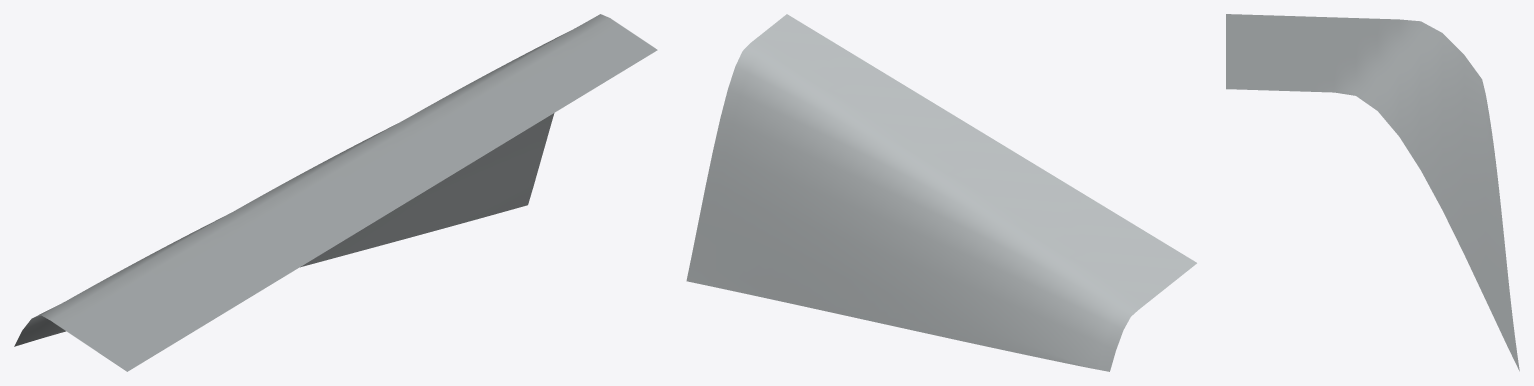
File: alpine-11-11.glb
The picture shows the model from 3 angles, left to right: view 1: azimuth 30°, elevation 25°; view 2: azimuth 150°, elevation 25°; view 3: azimuth 270°, elevation 25°; orthographic projection. The views are drawn at different scales.
Visible parts, largest first — view 1: alpine-11-11; view 2: alpine-11-11; view 3: alpine-11-11.
Boxes of the visible parts, x1,y1,x2,y2 form: alpine-11-11: [14, 14, 657, 371]; alpine-11-11: [686, 14, 1196, 371]; alpine-11-11: [1226, 14, 1519, 371].
Bounding box in the file's own units: 256 × 115 × 109.
Materials: 1 (1 with a texture image).
